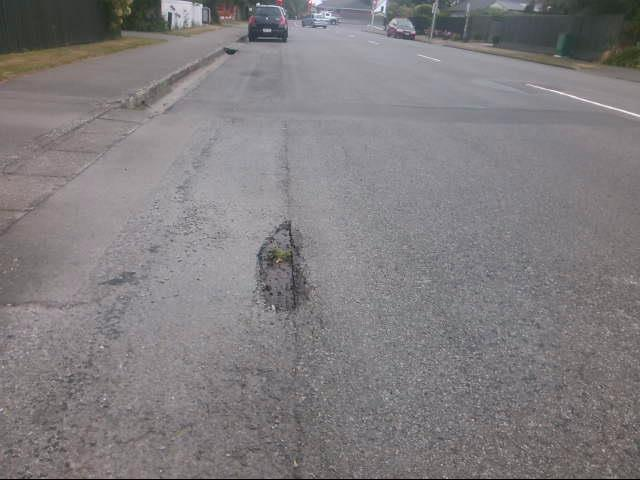pothole: (254, 221, 302, 315)
